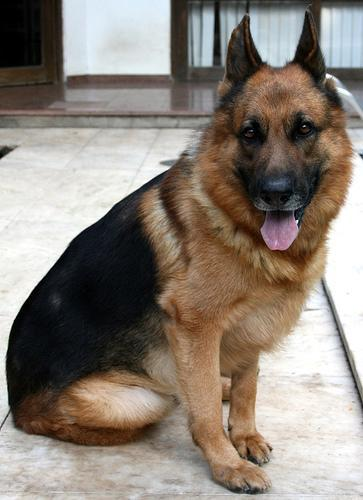German_shepherd: (5, 8, 354, 492)
